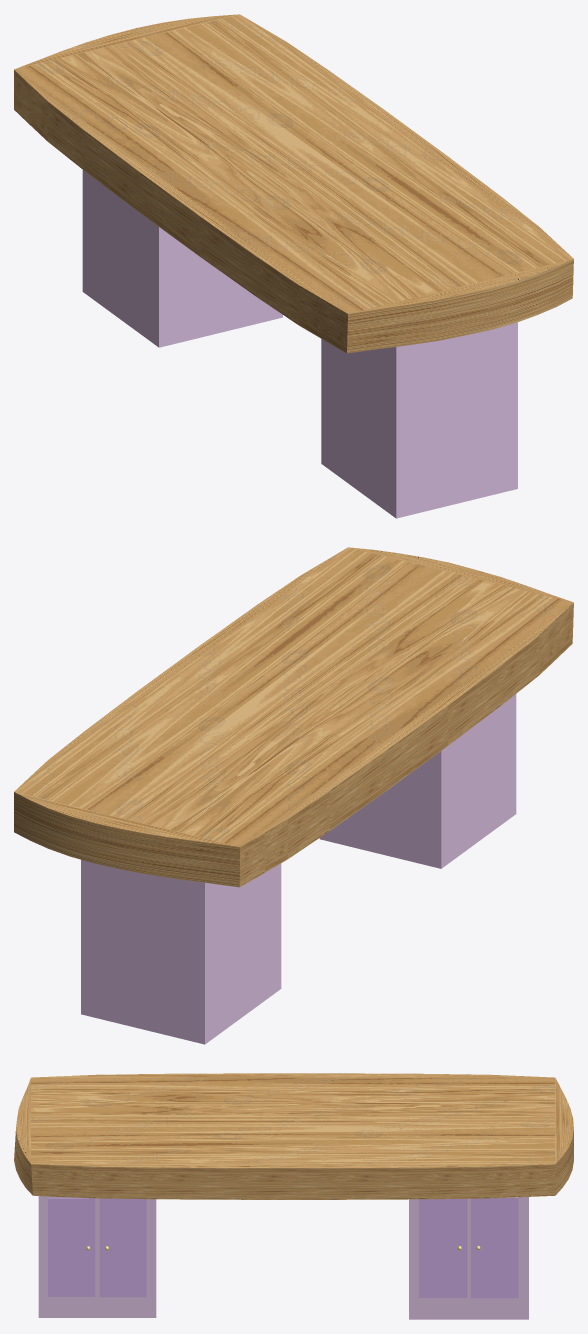
The model's file is mesaCentral.obj.
The picture shows the model from 3 angles, top to bottom: view 1: azimuth 30°, elevation 25°; view 2: azimuth 150°, elevation 25°; view 3: azimuth 270°, elevation 25°; orthographic projection. The views are drawn at different scales.
Visible parts, largest first — view 1: polySurface676polySurface486, polySurface486polySurface675, polySurface486polySurface684; view 2: polySurface676polySurface486, polySurface486polySurface684, polySurface486polySurface675; view 3: polySurface676polySurface486, polySurface486polySurface684, polySurface486polySurface675, polySurface486polySurface661, polySurface486polySurface664, polySurface486polySurface662, polySurface486polySurface663.
Boxes of the visible parts, x1,y1,x2,y2 form: polySurface676polySurface486: (14, 14, 573, 353); polySurface486polySurface675: (321, 322, 517, 518); polySurface486polySurface684: (82, 170, 282, 347); polySurface676polySurface486: (14, 547, 573, 887); polySurface486polySurface684: (81, 859, 281, 1044); polySurface486polySurface675: (319, 694, 516, 868); polySurface676polySurface486: (14, 1073, 573, 1199); polySurface486polySurface684: (409, 1197, 528, 1319); polySurface486polySurface675: (38, 1196, 156, 1317); polySurface486polySurface661: (471, 1197, 518, 1298); polySurface486polySurface664: (419, 1199, 467, 1297); polySurface486polySurface662: (99, 1198, 146, 1297); polySurface486polySurface663: (48, 1198, 95, 1296).
Size of the model in its own units: 0.1491 by 0.1282 by 0.3723.
11 materials, 11 textured.
